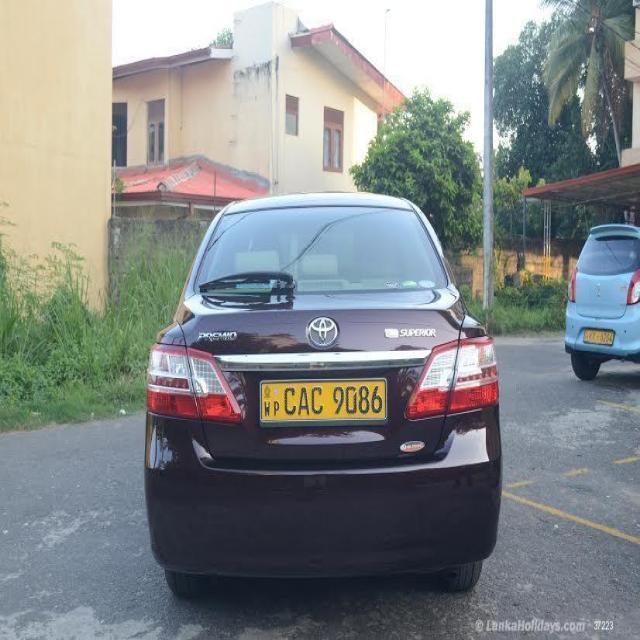license-plate: (259, 380, 386, 419), (583, 329, 613, 343)
